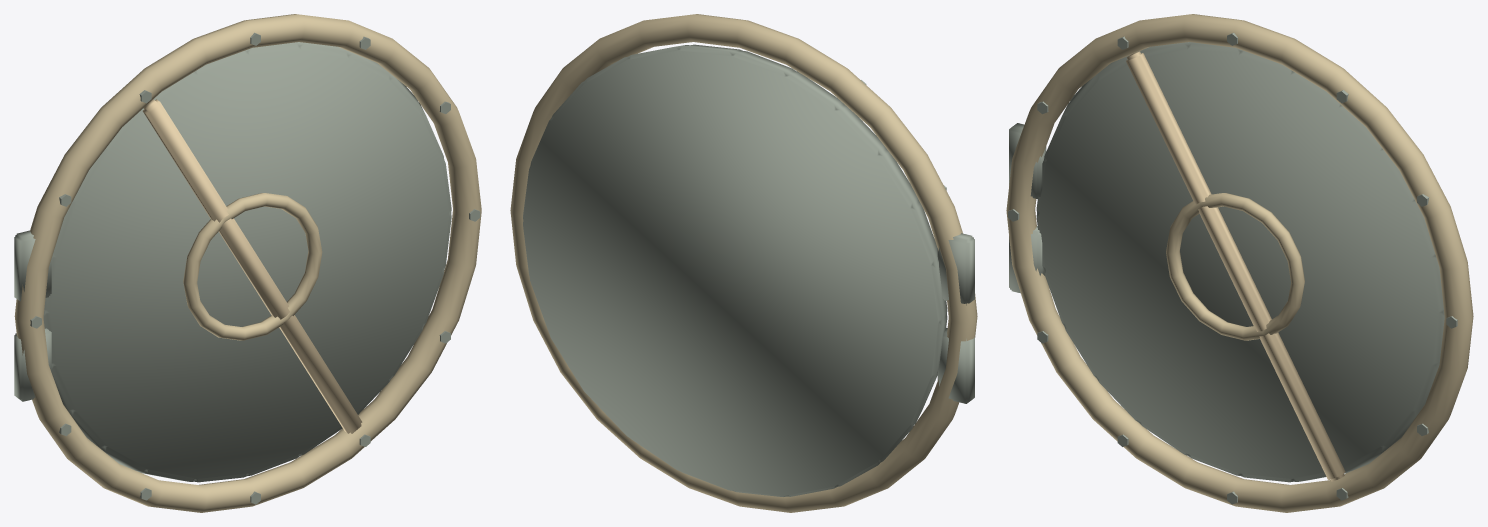
Rendered from escape-hatch.glb.
The picture shows the model from 3 angles, left to right: view 1: azimuth 30°, elevation 25°; view 2: azimuth 150°, elevation 25°; view 3: azimuth 330°, elevation 25°; orthographic projection.
Parts seen in each view (by area): view 1: EscapeHatch; view 2: EscapeHatch; view 3: EscapeHatch.
Boxes of the visible parts, left/top/right/bottom form: EscapeHatch: left=14, top=14, right=481, bottom=512; EscapeHatch: left=510, top=14, right=977, bottom=512; EscapeHatch: left=1006, top=14, right=1473, bottom=512.
Size of the model in its own units: 1.78 by 1.78 by 0.144.
